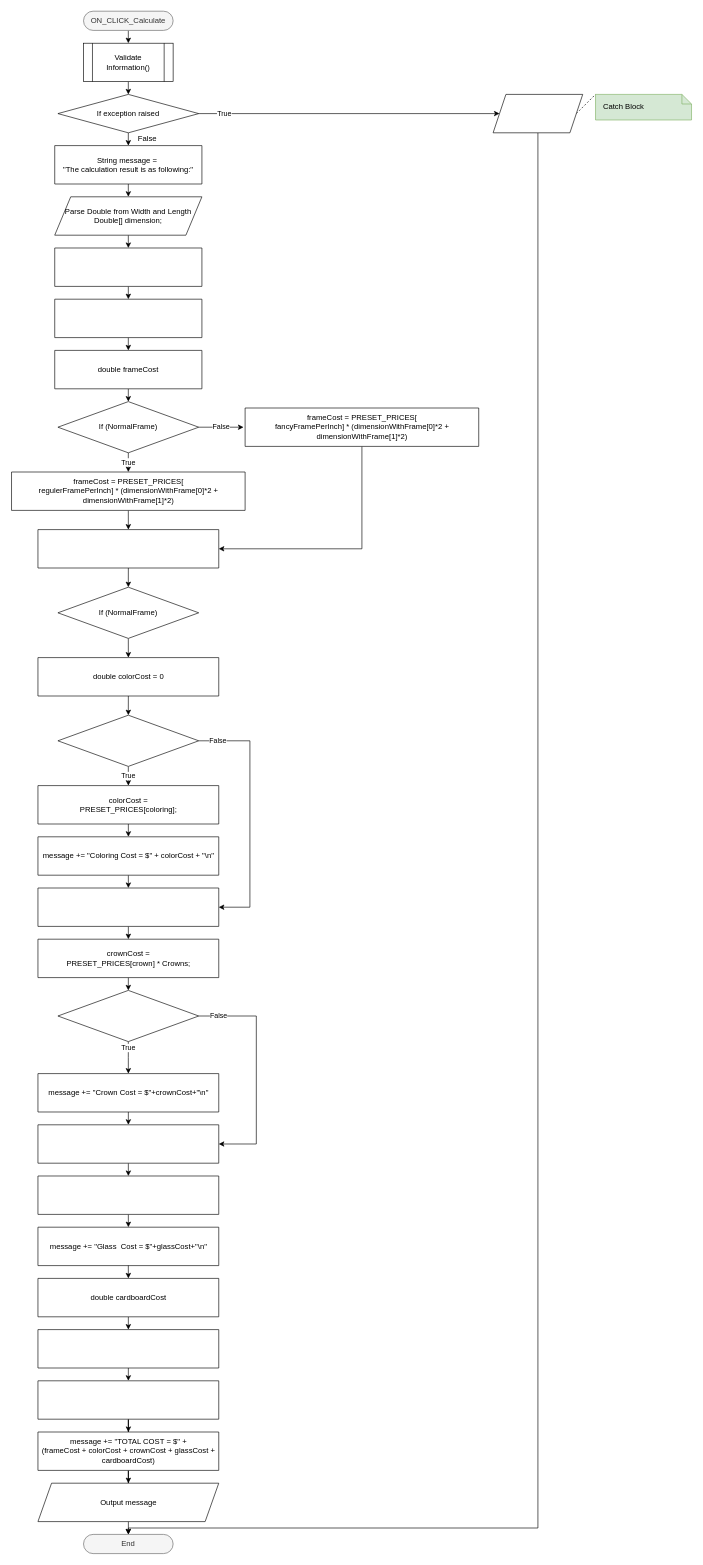
This 703x1565 diagram has some shape labels left out. Each missing label, with the centre of its shape:
cardboardCost = PRESET_PRICES[cardboardPerSqInch] * dimension[0] * dimension[1]: point (128, 1348)
double area = dimension[0] * dimension[1]: point (128, 318)
double crownCost: point (128, 906)
double glassCost: point (128, 1143)
Double[] dimensionWithFrame = {dimension[0] + 2, dimension[1] + 2 }: point (128, 266)
frameCost += "Frame Cost = $" + frameCost + "\n": point (128, 548)
glassCost = PRESET_PRICES[glassPerSqInch] * dimension[0] * dimension[1]: point (128, 1194)
if (crownCost != 0): point (128, 1016)
If (customColor): point (128, 740)
message += "Cardboard Cost = $"+cardboardCost+"\n": point (128, 1399)
Prompt user Something wrong!: point (537, 113)
